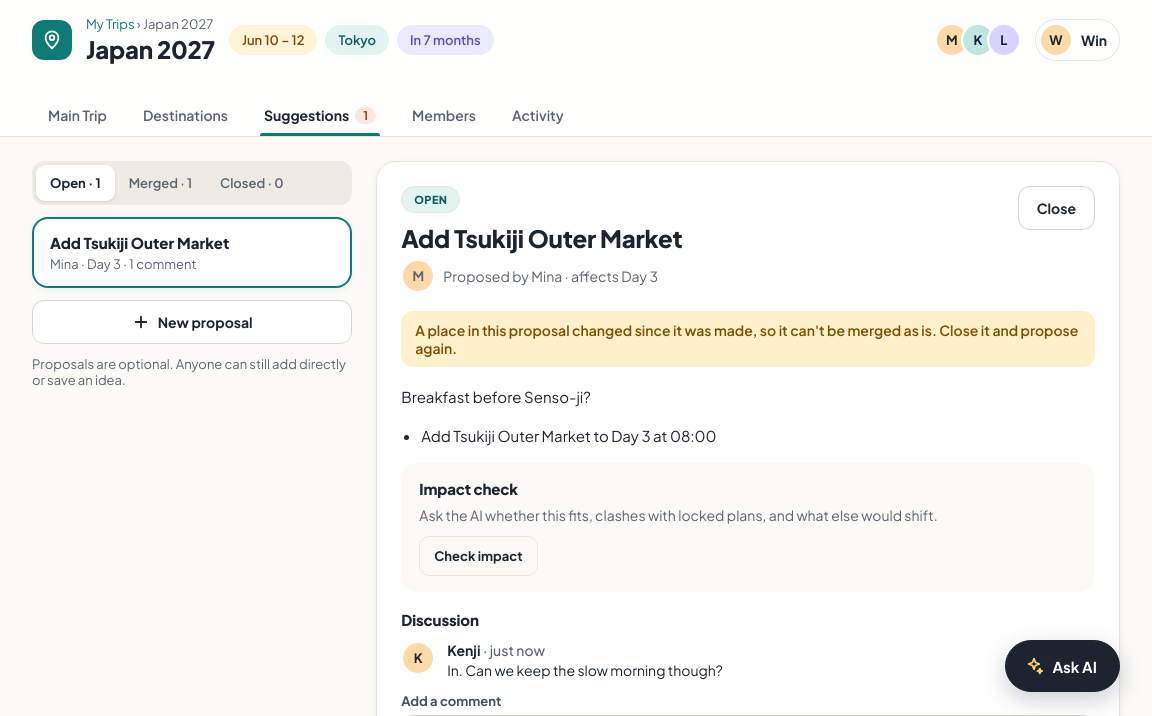
Test: stale proposals cannot merge; viewers only close their own
Expected: the text "changed since it was made" is shown, [415,321,1078,357]
Click the button "Close" at coordinates (1056, 208), box [1018,186,1095,230]
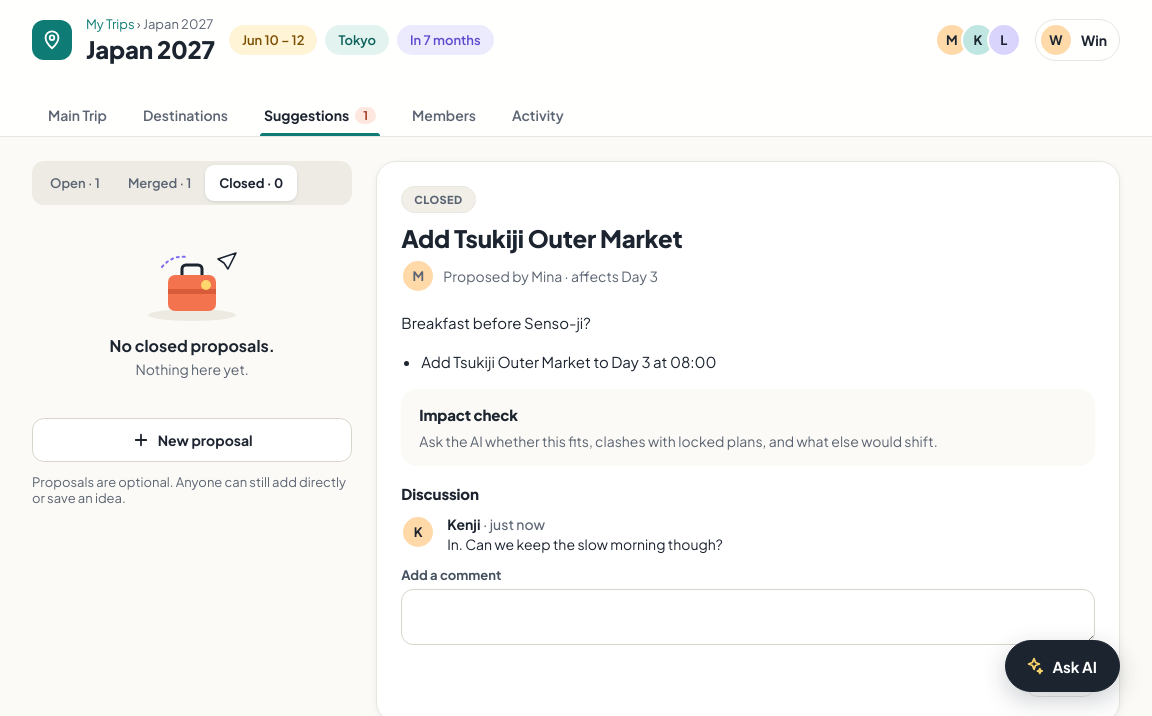
Now the text "CLOSED" is shown, box [401,186,476,213]
